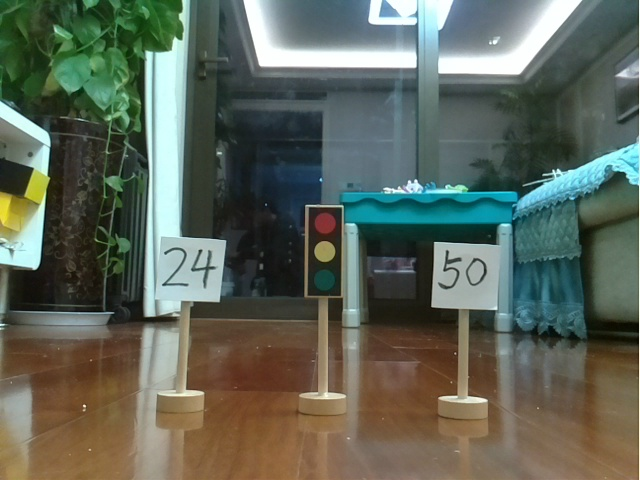Red Traffic Light: (293, 195, 356, 422)
Speed Limit 24: (148, 230, 228, 417)
Speed Limit 50: (421, 233, 504, 425)
